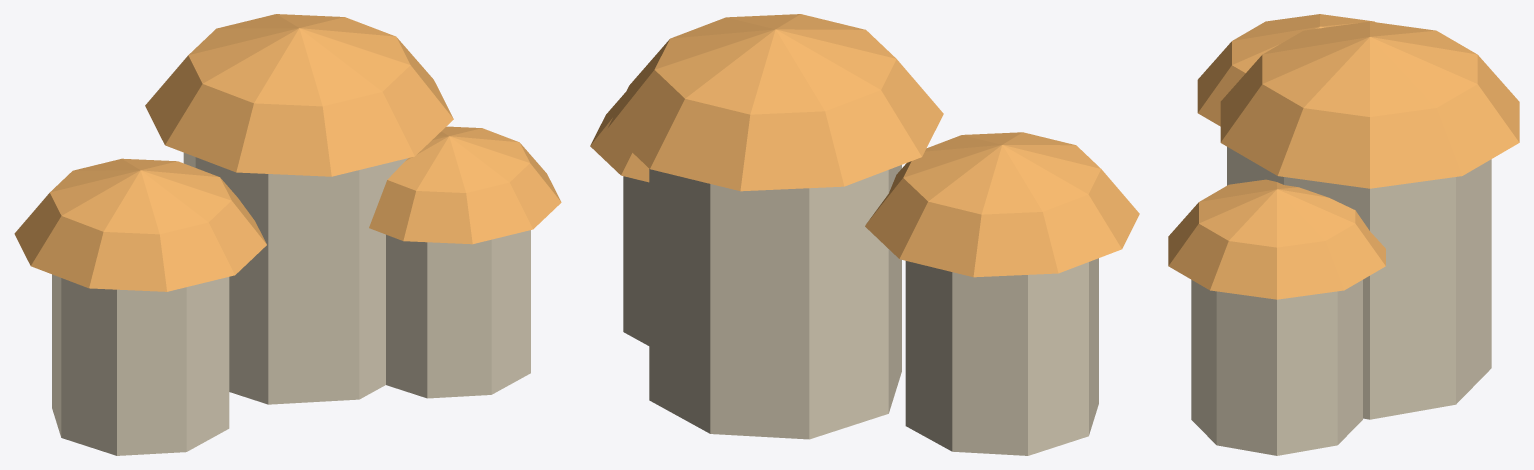
File: Mushroom_Bolete.glb
3 views of the same model, side by side, from view 1: azimuth 30°, elevation 25°; view 2: azimuth 150°, elevation 25°; view 3: azimuth 270°, elevation 25° (orthographic). The views are drawn at different scales.
Visible parts, largest first — view 1: FTF_Nature_Mushroom_Bolete_Natural_StaticMesh; view 2: FTF_Nature_Mushroom_Bolete_Natural_StaticMesh; view 3: FTF_Nature_Mushroom_Bolete_Natural_StaticMesh.
Boxes of the visible parts, bbox=[...] form: FTF_Nature_Mushroom_Bolete_Natural_StaticMesh: bbox=[14, 14, 561, 455]; FTF_Nature_Mushroom_Bolete_Natural_StaticMesh: bbox=[590, 14, 1139, 455]; FTF_Nature_Mushroom_Bolete_Natural_StaticMesh: bbox=[1168, 14, 1519, 455].
Bounding box in the file's own units: 0.81 × 0.512 × 0.4914.
